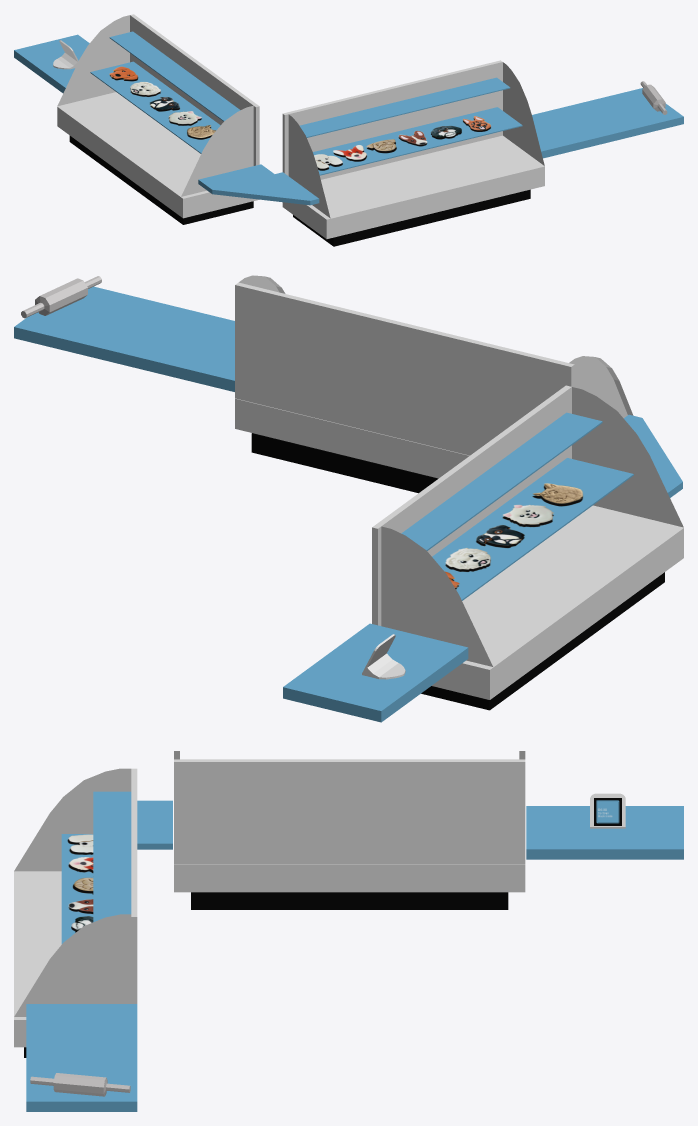
The model's file is displaycase23.glb.
3 views of the same model, one above another, from view 1: azimuth 30°, elevation 25°; view 2: azimuth 150°, elevation 25°; view 3: azimuth 270°, elevation 25° (orthographic). The views are drawn at different scales.
Visible parts, largest first — view 1: Cube.001, Cube.022, Cube.007, Cube.002, Cube.010, Cube.019, Cube.020, Cube.011, corner, Cube.015, Cube.017, Cube.014 (+7 smaller); view 2: Cube.007, Cube.022, Cube.002, Cube.024, Cube.020, Cube.015, Cube.019, Cube.001, Cube.014, Cube.017, Cube, Cube.023 (+9 smaller); view 3: Cube.017, Cube.002, Cube.022, Cube.024, Cube.004, Cube.023, Cube.001, Cube.011, Cube.003, corner, Cube.010, register (+5 smaller).
Boxes of the visible parts, box(x1,y1,x2,y2) form: Cube.001: box(282, 136, 544, 239); Cube.022: box(57, 93, 258, 218); Cube.007: box(287, 61, 498, 179); Cube.002: box(532, 88, 683, 158); Cube.010: box(313, 107, 522, 175); Cube.019: box(181, 105, 255, 198); Cube.020: box(57, 15, 132, 107); Cube.011: box(300, 77, 510, 137); corner: box(198, 164, 319, 205); Cube.015: box(90, 61, 220, 153); Cube.017: box(132, 16, 256, 165); Cube.014: box(109, 31, 240, 121); Cube.007: box(240, 284, 568, 455); Cube.022: box(432, 508, 683, 699); Cube.002: box(14, 286, 234, 391); Cube.024: box(283, 623, 468, 722); Cube.020: box(378, 526, 492, 669); Cube.015: box(432, 458, 633, 600); Cube.019: box(570, 387, 683, 529); Cube.001: box(235, 398, 469, 478); Cube.014: box(401, 412, 602, 550); Cube.017: box(376, 387, 568, 556); Cube: box(251, 433, 438, 493); Cube.023: box(421, 572, 664, 710); Cube.017: box(179, 759, 519, 864); Cube.002: box(26, 1004, 137, 1111); Cube.022: box(174, 864, 525, 892); Cube.024: box(526, 806, 683, 859); Cube.004: box(14, 914, 131, 1019); Cube.023: box(191, 892, 508, 909); Cube.001: box(14, 873, 61, 1047); Cube.011: box(93, 791, 131, 922); Cube.003: box(14, 768, 131, 873); corner: box(137, 800, 172, 849); Cube.010: box(61, 834, 93, 944); register: box(590, 793, 625, 828).
Size of what is drawn, in the model's own units: 6.19 by 1.4 by 5.74.
Materials: 4 (4 with a texture image).
